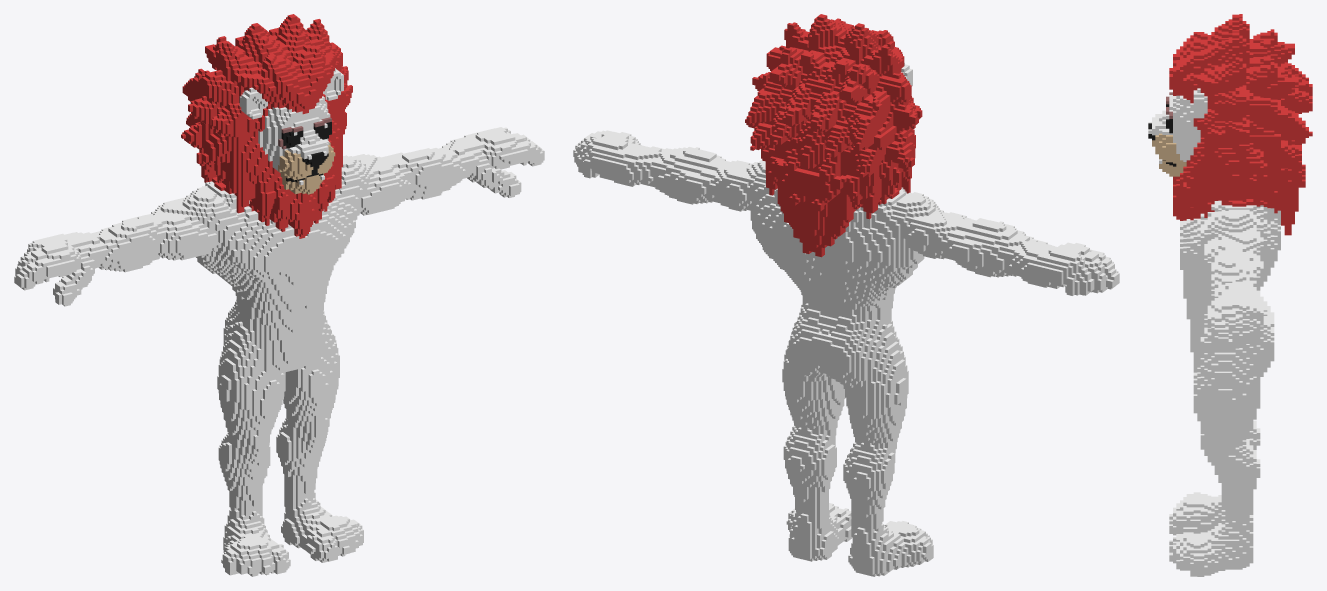
3 renders of one model, left to right at view 1: azimuth 30°, elevation 25°; view 2: azimuth 150°, elevation 25°; view 3: azimuth 270°, elevation 25°, orthographic. The views are drawn at different scales.
Visible parts, largest first — view 1: standard; view 2: standard; view 3: standard.
Part boxes in pixels (left/top/right/bottom): standard: left=14, top=14, right=544, bottom=576; standard: left=573, top=14, right=1119, bottom=576; standard: left=1148, top=14, right=1312, bottom=576.
Size of the model in its own units: 17.2 by 16.5 by 4.7.
4 materials, 4 textured.
